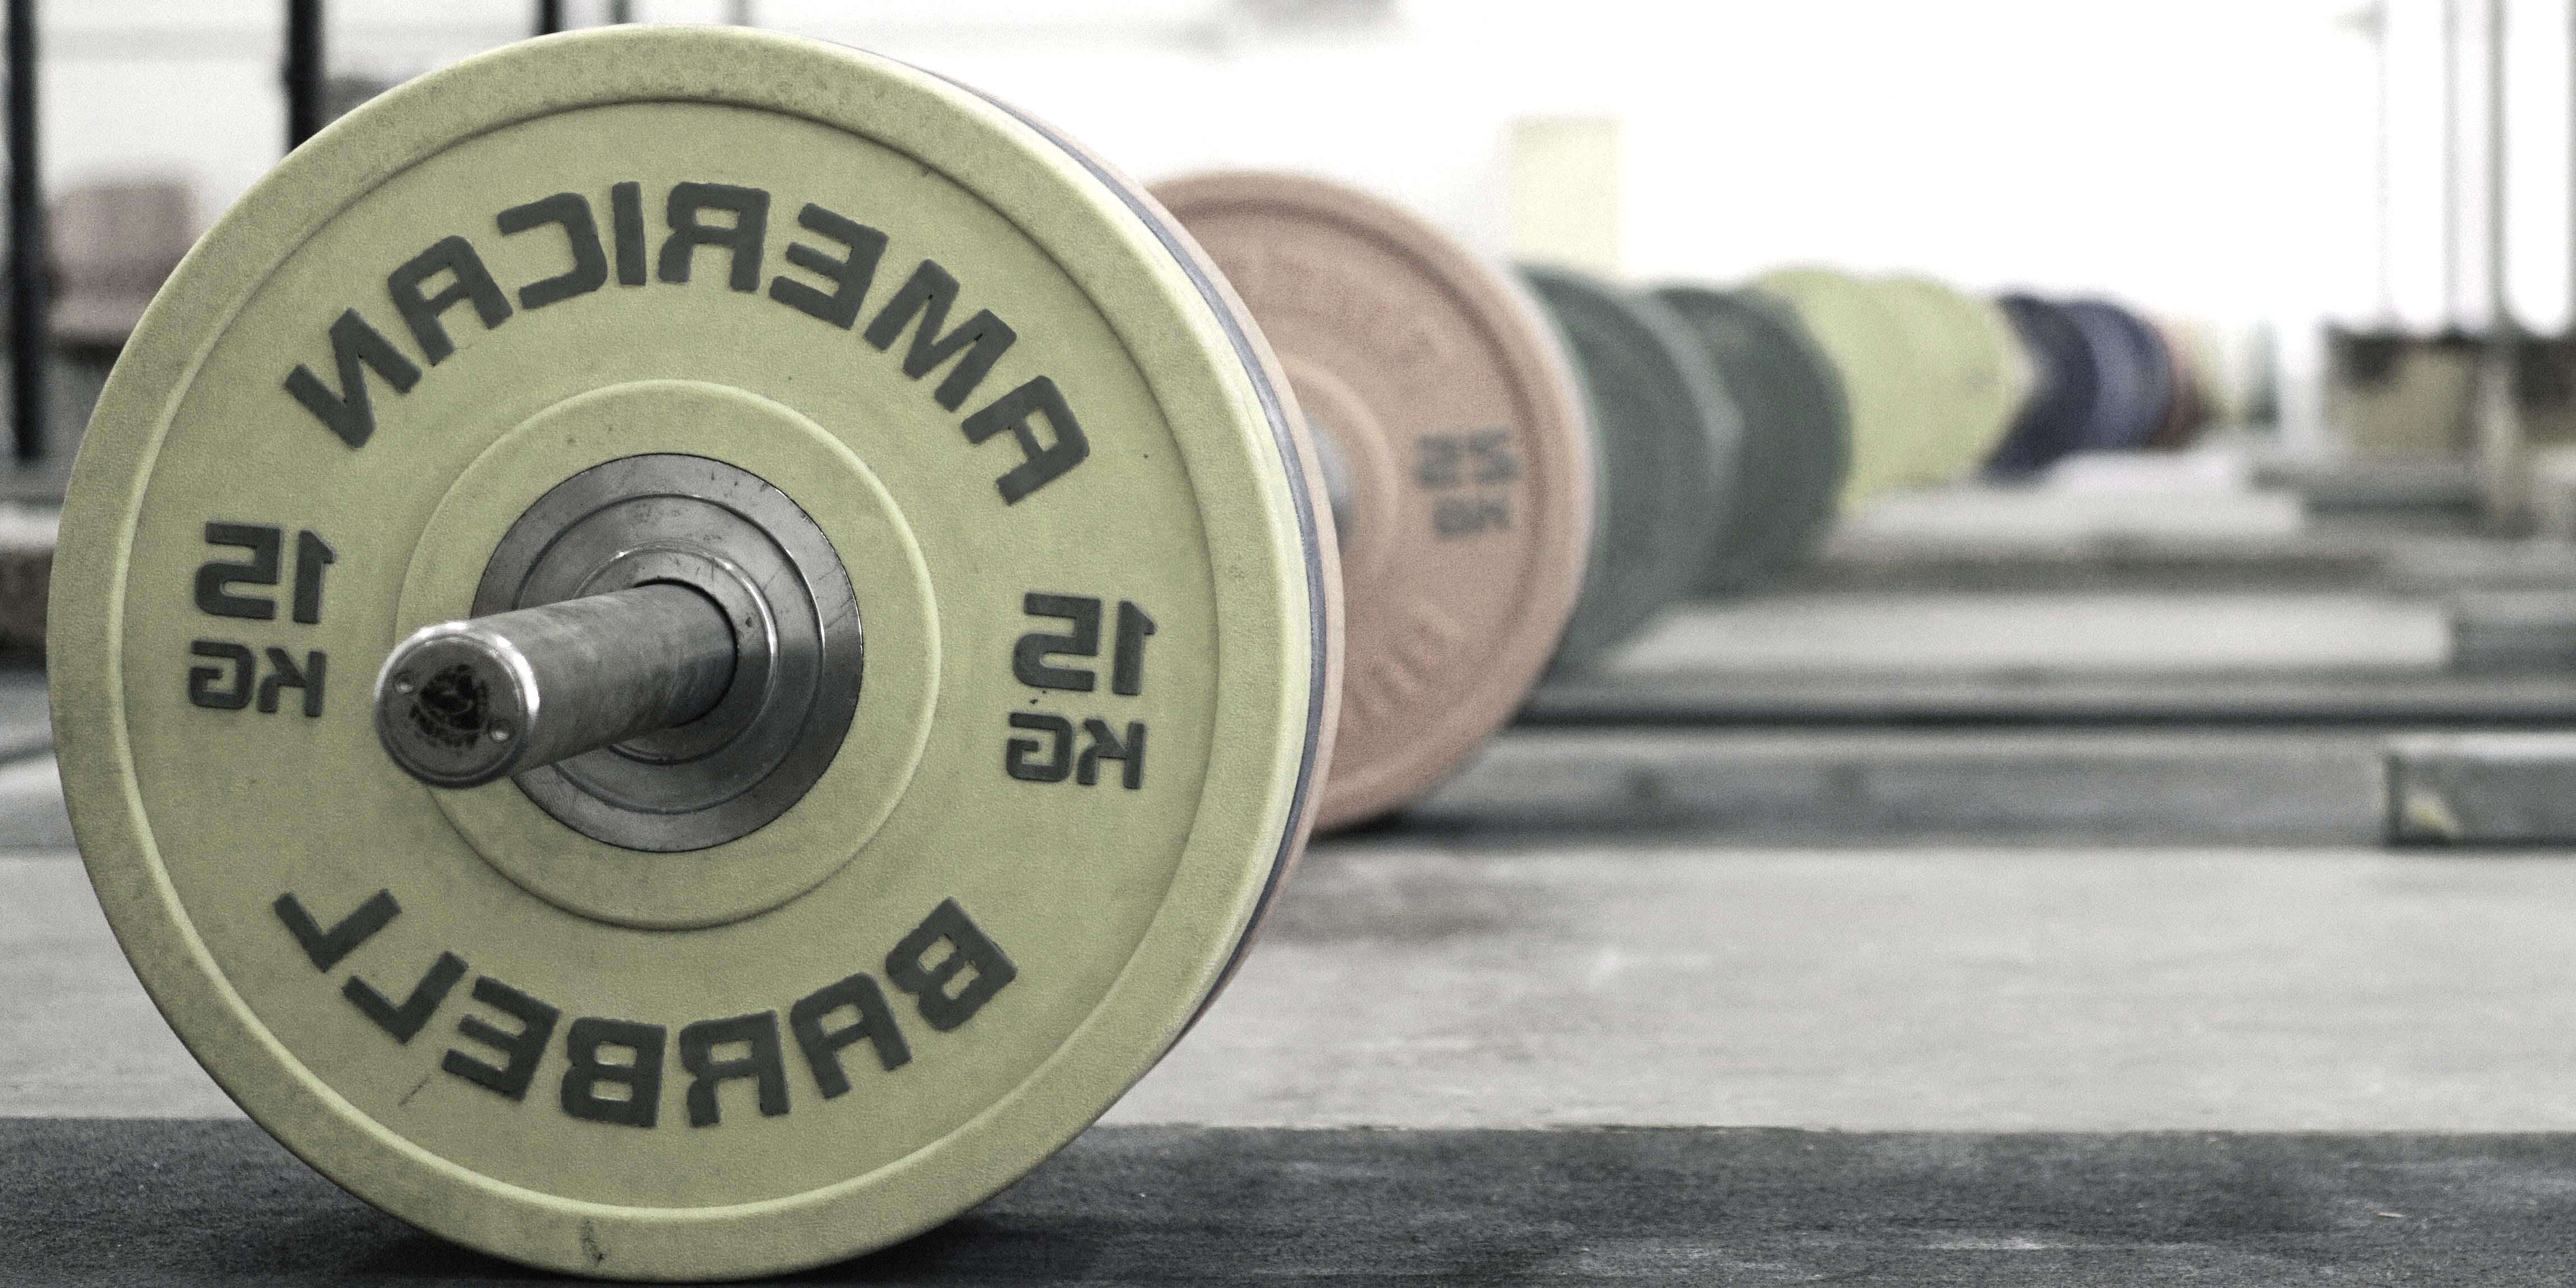Barbell: (358, 606, 562, 818)
